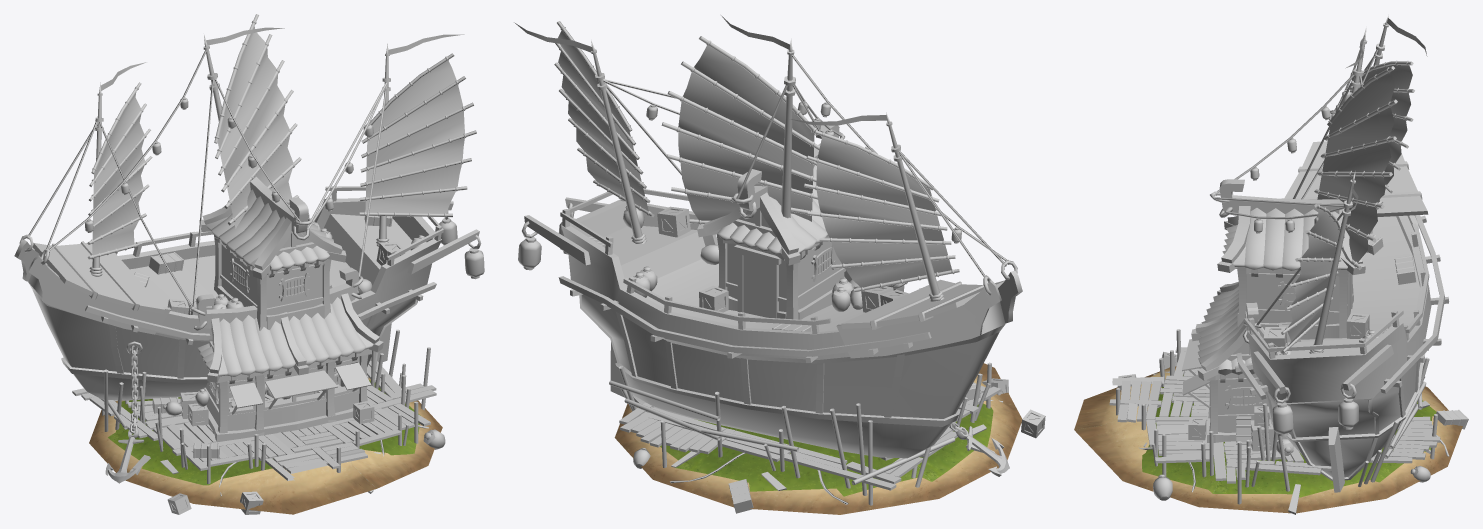
The model's file is gameArtAssignment4.fbx.
The picture shows the model from 3 angles, left to right: view 1: azimuth 30°, elevation 25°; view 2: azimuth 150°, elevation 25°; view 3: azimuth 270°, elevation 25°; orthographic projection. The views are drawn at different scales.
Parts seen in each view (by area): view 1: group144; view 2: group144; view 3: group144.
Boxes of the visible parts, x1,y1,x2,y2 form: group144: (14, 14, 484, 514); group144: (514, 15, 1045, 514); group144: (1074, 14, 1468, 514).
Size of the model in its own units: 236 by 197 by 173.
